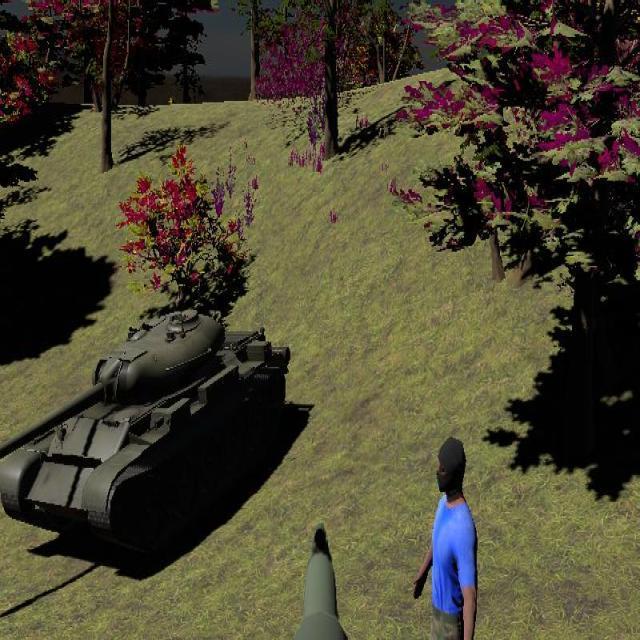Human: (414, 433, 479, 640)
Tank: (1, 306, 290, 560)
